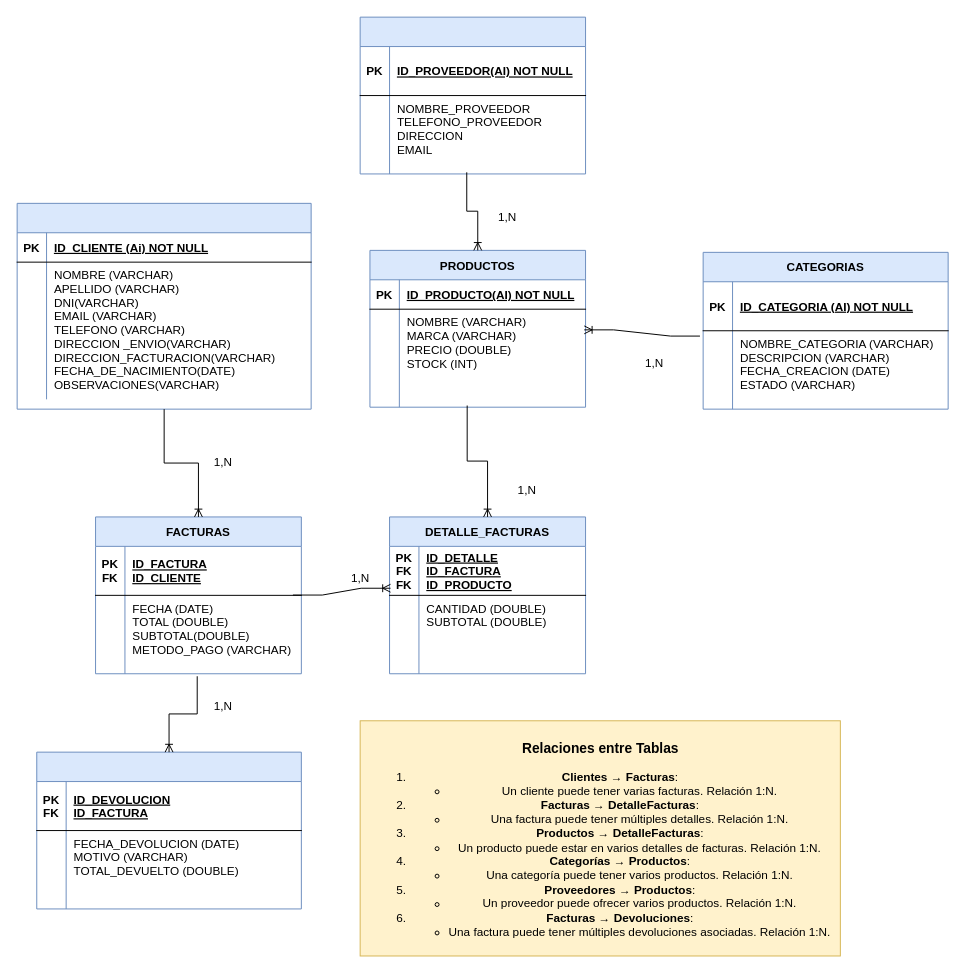
The diagram is 965 pixels wide and 973 high, and some of its shapes have lost their labels. Each missing label, with the box of its shape:
CLIENTES: (16, 202, 311, 409)
DEVOLUCIONES: (36, 751, 301, 909)
PROVEEDORES: (359, 16, 586, 174)
